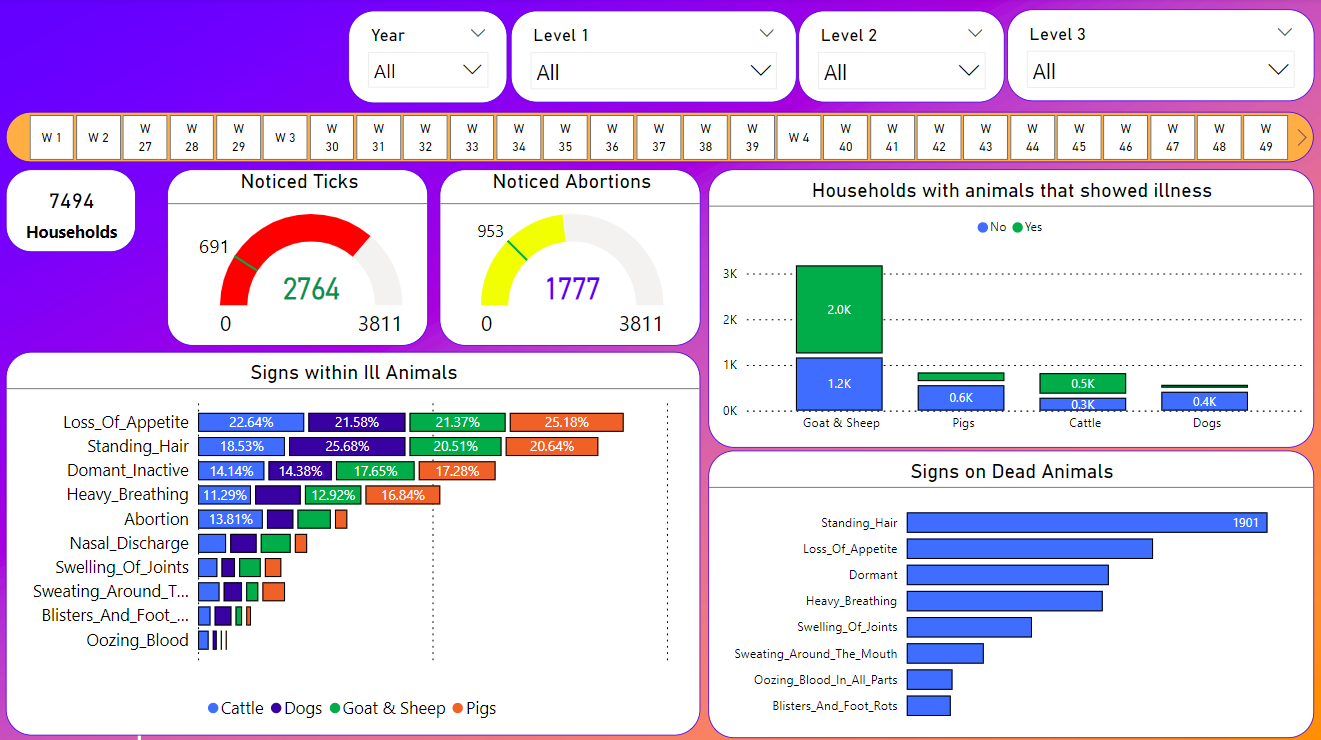

The dashboard page shown, as its layout file describes it:
{"tool":"powerbi","page":{"name":"Overview","canvas":[1280,720],"ordinal":0},"visuals":[{"type":"slicer","fields":{"Values":["Date.Year"]},"box":[339.4,12.3,153.8,89.8],"z":0},{"type":"slicer","fields":{"Values":["StudyArea.LScape"]},"box":[495.4,12.3,275.7,88.6],"z":1000},{"type":"slicer","fields":{"Values":["StudyArea.City"]},"box":[773.2,12.3,199.4,88.6],"z":2000},{"type":"slicer","fields":{"Values":["StudyArea.Cluster"]},"box":[974.8,11.1,296.6,88.6],"z":3000},{"type":"slicer","fields":{"Values":["Date.Week"]},"box":[8.6,109.5,1262.8,49],"z":4000},{"type":"card","fields":{"Values":["Households.Households"]},"box":[8.6,164.9,125.5,80],"z":6000},{"type":"clusteredBarChart","title":"Signs on Dead Animals","fields":{"Category":["Date.Week","DeadAnimalSigns.SignNoticed"],"Y":["DeadAnimalSigns.TotalCounts"]},"box":[686.5,436.4,584.7,277.8],"z":7000},{"type":"columnChart","title":"Households with animals that showed illness","fields":{"Category":["AnimalShowIllness.Animal"],"Y":["Sum(AnimalShowIllness.Counts)"],"Series":["AnimalShowIllness.ShowIllness"]},"box":[686.2,165.2,584.9,268.9],"z":8000},{"type":"barChart","title":"Signs within Ill Animals","fields":{"Category":["IllAnimalSigns.Signs"],"Y":["IllAnimalSigns.Counts % All Signs"],"Series":["IllAnimalSigns.Animal"]},"box":[8.4,341.3,670.6,370.3],"z":9000},{"type":"gauge","title":"Noticed Abortions","fields":{"TargetValue":["Households.Abortions Target"],"Y":["Households.Abortions Yes"],"MaxValue":["MeasuresTBL.HHOwnAnimals"]},"box":[427.1,165.3,252.1,170.1],"z":10000},{"type":"gauge","title":"Noticed Ticks","fields":{"MaxValue":["MeasuresTBL.HHOwnAnimals"],"TargetValue":["MeasuresTBL.Ticks Target"],"Y":["MeasuresTBL.Noticed Ticks"]},"box":[164,165.2,252.1,170.1],"z":11000}]}

Visuals, with their boxes in screenshot pixels (x1, y1, x2, y2), scaled from the page's 1280x720 canvas onto the 1321x740 screenshot:
slicer - Date.Year: 350,13,509,105
slicer - StudyArea.LScape: 511,13,796,104
slicer - StudyArea.City: 798,13,1004,104
slicer - StudyArea.Cluster: 1006,11,1312,102
slicer - Date.Week: 9,113,1312,163
card - Households.Households: 9,169,138,252
"Signs on Dead Animals" clusteredBarChart: 708,449,1312,734
"Households with animals that showed illness" columnChart: 708,170,1312,446
"Signs within Ill Animals" barChart: 9,351,701,731
"Noticed Abortions" gauge: 441,170,701,345
"Noticed Ticks" gauge: 169,170,429,345
